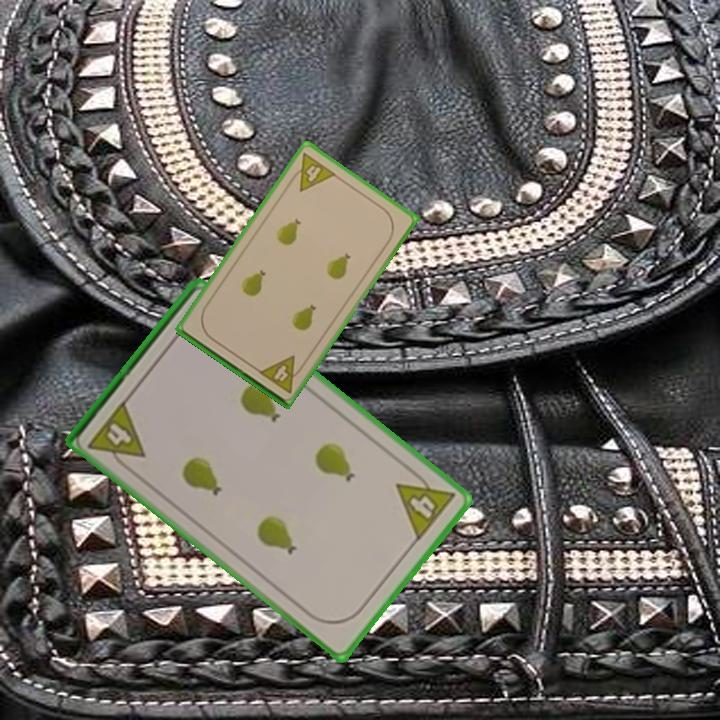4p: (392, 464, 459, 544), (84, 396, 149, 475), (285, 149, 339, 194), (255, 352, 307, 396)
